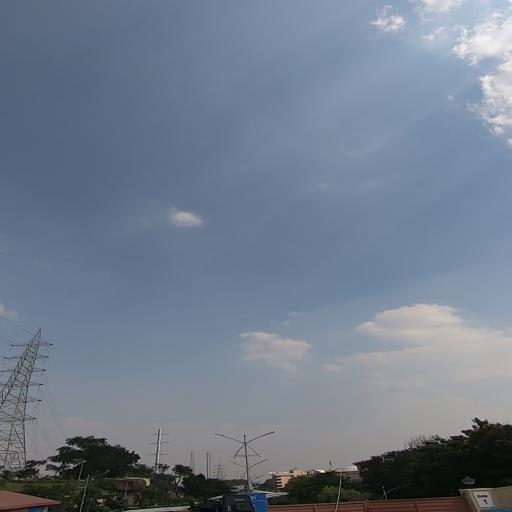Street_light: (246, 428, 278, 444), (210, 431, 242, 444), (224, 458, 246, 474)
